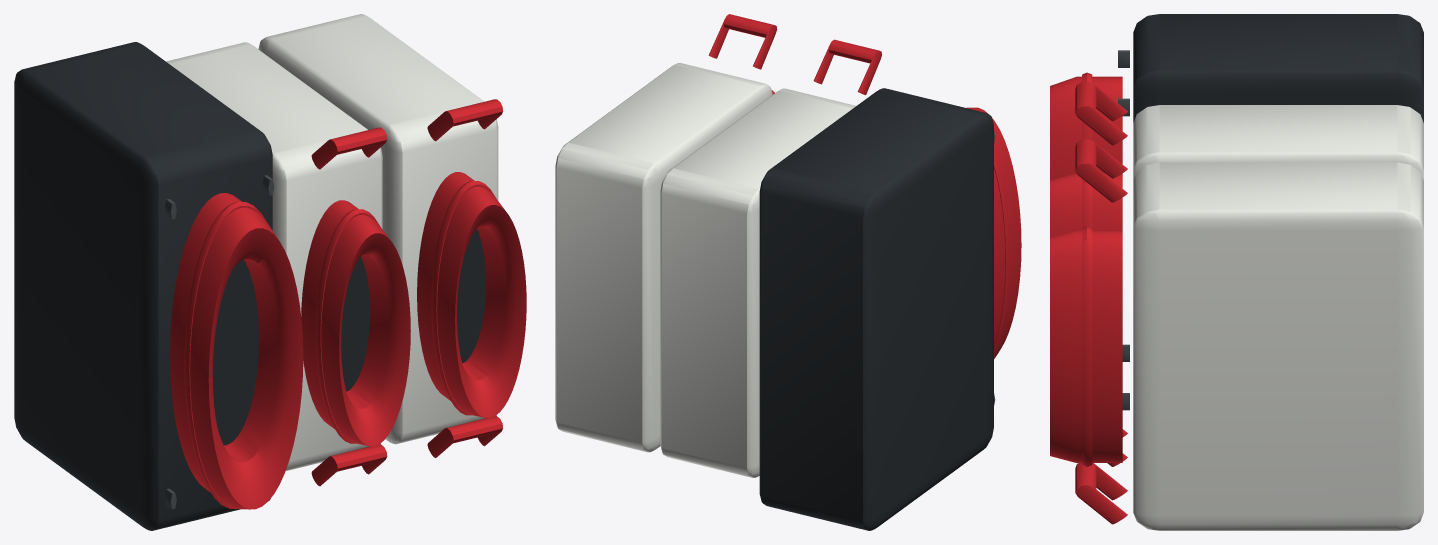
Rendered from ob_folded_cones.glb.
3 views of the same model, side by side, from view 1: azimuth 30°, elevation 25°; view 2: azimuth 150°, elevation 25°; view 3: azimuth 270°, elevation 25° (orthographic). The views are drawn at different scales.
Parts seen in each view (by area): view 1: ob_folded_cones; view 2: ob_folded_cones; view 3: ob_folded_cones.
Part boxes in pixels (x1,y1,x2,y2): ob_folded_cones: (14, 14, 526, 530); ob_folded_cones: (555, 14, 1021, 530); ob_folded_cones: (1050, 14, 1423, 530).
Size of the model in its own units: 0.33 by 0.34 by 0.3.
